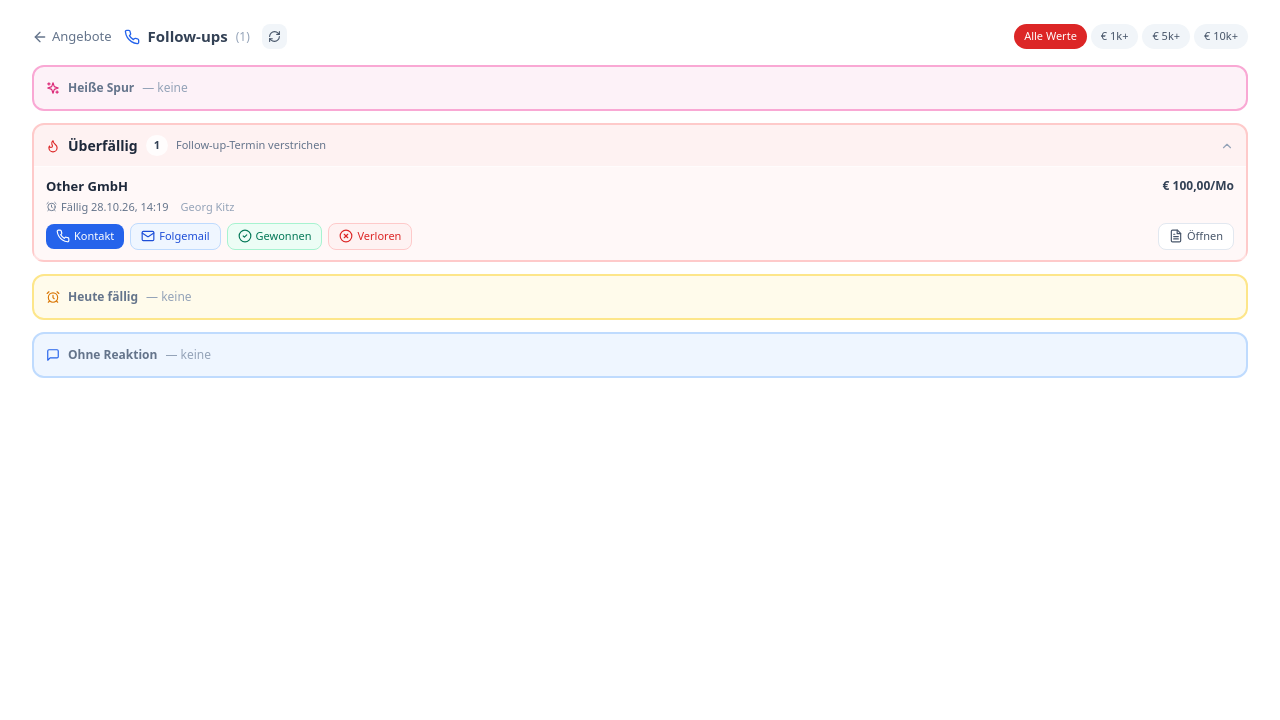
FollowUpsPage › clicking Verloren opens LostReasonModal first (no immediate stage change)
The width and height of the screenshot is (1280, 720).
Check: the text "Other GmbH" is shown, box [46, 177, 128, 196]
Click the button "Verloren" at coordinates (370, 236), box [328, 223, 412, 250]
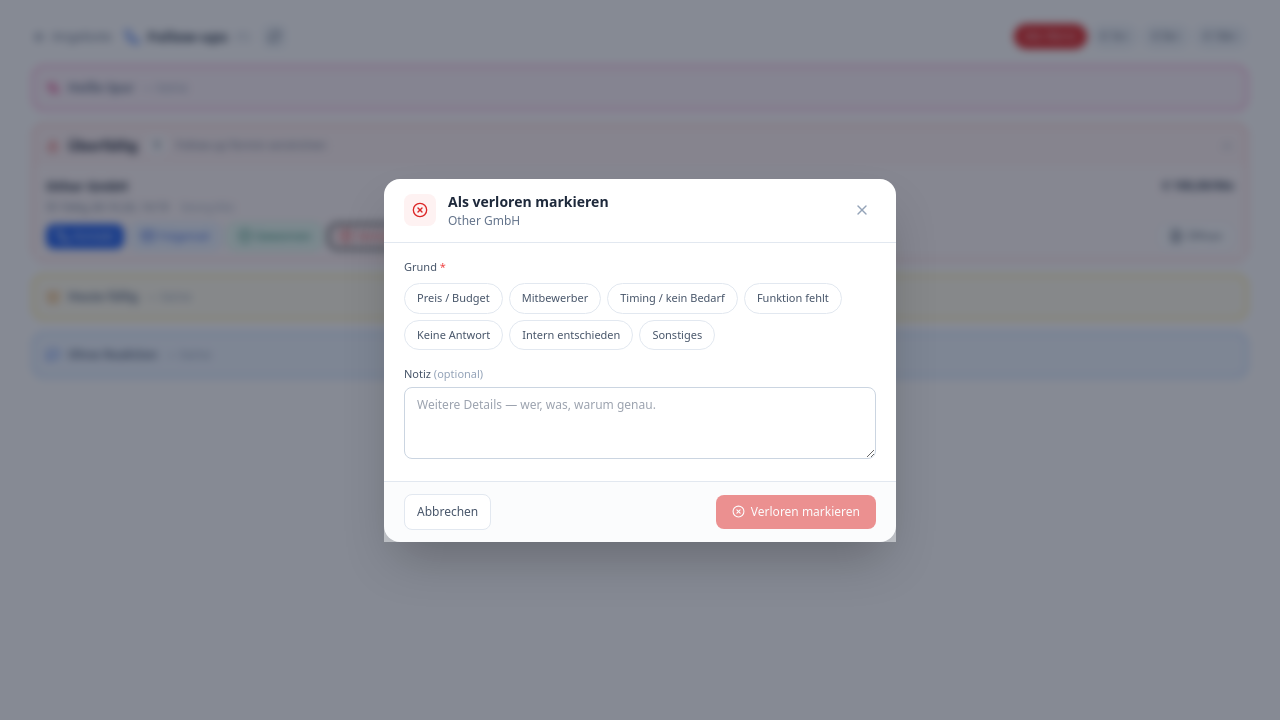
Check: the text "Als verloren markieren" is shown, box [448, 192, 609, 210]
